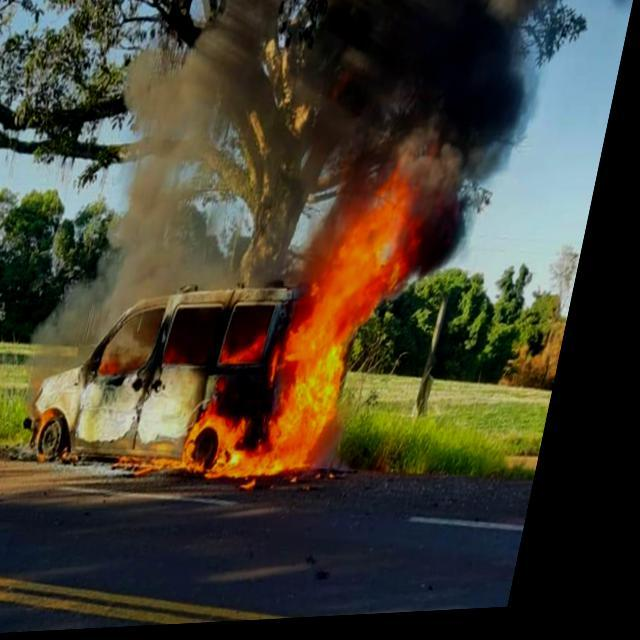Fire: (136, 175, 432, 489)
